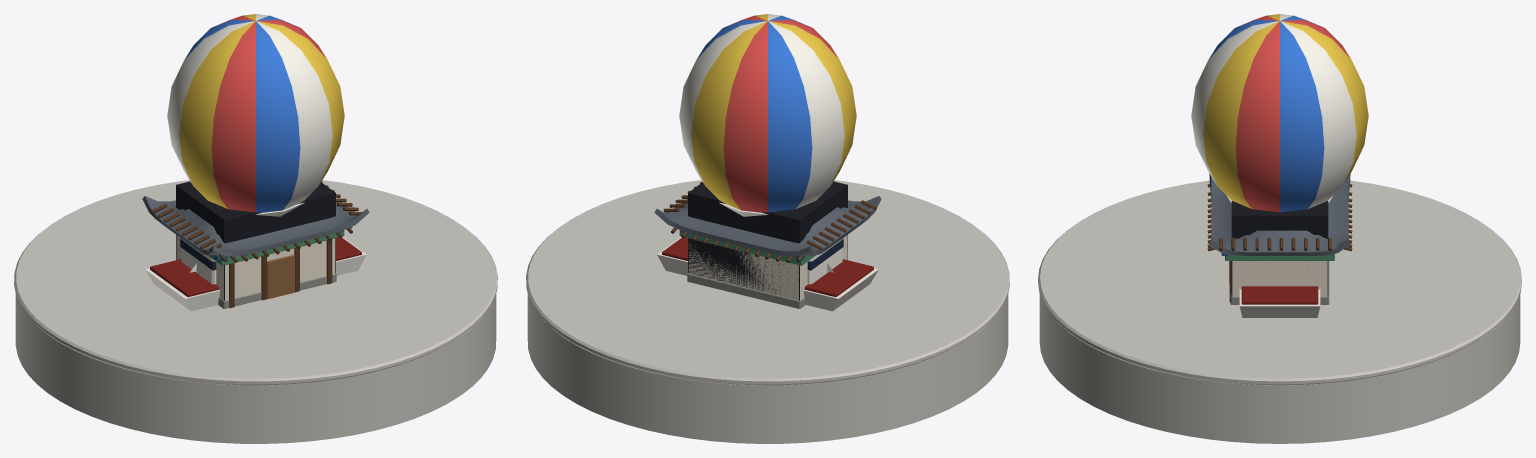
Rendered from props.glb.
The picture shows the model from 3 angles, left to right: view 1: azimuth 30°, elevation 25°; view 2: azimuth 150°, elevation 25°; view 3: azimuth 270°, elevation 25°; orthographic projection.
Visible parts, largest first — view 1: platform, balloon, naxi_house, naxi_house__col0, ferry; view 2: platform, balloon, naxi_house, naxi_house__col0, ferry; view 3: platform, balloon, naxi_house, naxi_house__col0, ferry.
Part boxes in pixels (x1=…): platform: x1=14, y1=180, x2=497, y2=443; balloon: x1=167, y1=14, x2=344, y2=216; naxi_house: x1=142, y1=181, x2=369, y2=308; naxi_house__col0: x1=176, y1=181, x2=335, y2=300; ferry: x1=145, y1=237, x2=366, y2=311; platform: x1=526, y1=180, x2=1009, y2=443; balloon: x1=679, y1=14, x2=856, y2=216; naxi_house: x1=654, y1=182, x2=881, y2=308; naxi_house__col0: x1=688, y1=181, x2=847, y2=300; ferry: x1=657, y1=237, x2=878, y2=311; platform: x1=1038, y1=180, x2=1521, y2=443; balloon: x1=1191, y1=14, x2=1368, y2=212; naxi_house: x1=1207, y1=174, x2=1352, y2=304; naxi_house__col0: x1=1231, y1=201, x2=1328, y2=296; ferry: x1=1239, y1=286, x2=1320, y2=317.
Bounding box in the file's own units: 12 × 8.8 × 12.
